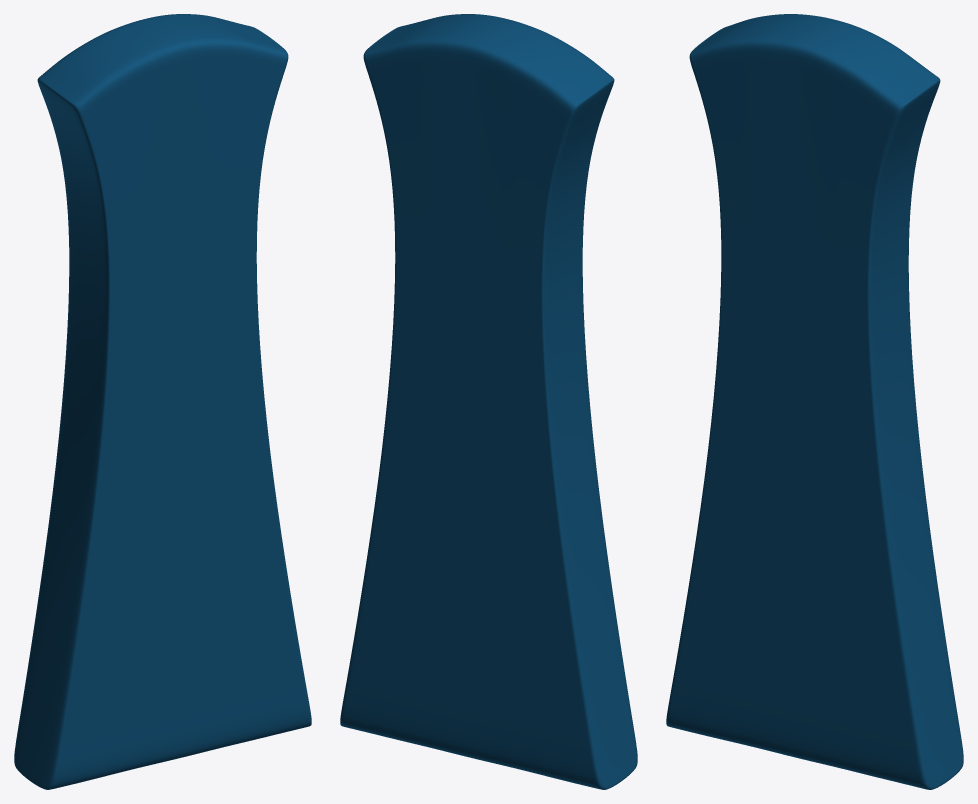
The model's file is maleBody.dae.
The picture shows the model from 3 angles, left to right: view 1: azimuth 30°, elevation 25°; view 2: azimuth 150°, elevation 25°; view 3: azimuth 330°, elevation 25°; orthographic projection.
Visible parts, largest first — view 1: Cube; view 2: Cube; view 3: Cube.
Part boxes in pixels (x1,y1,x2,y2): Cube: (14,14,311,789); Cube: (340,14,637,789); Cube: (666,14,963,789).
Size of the model in its own units: 76.22 by 196 by 20.43.
